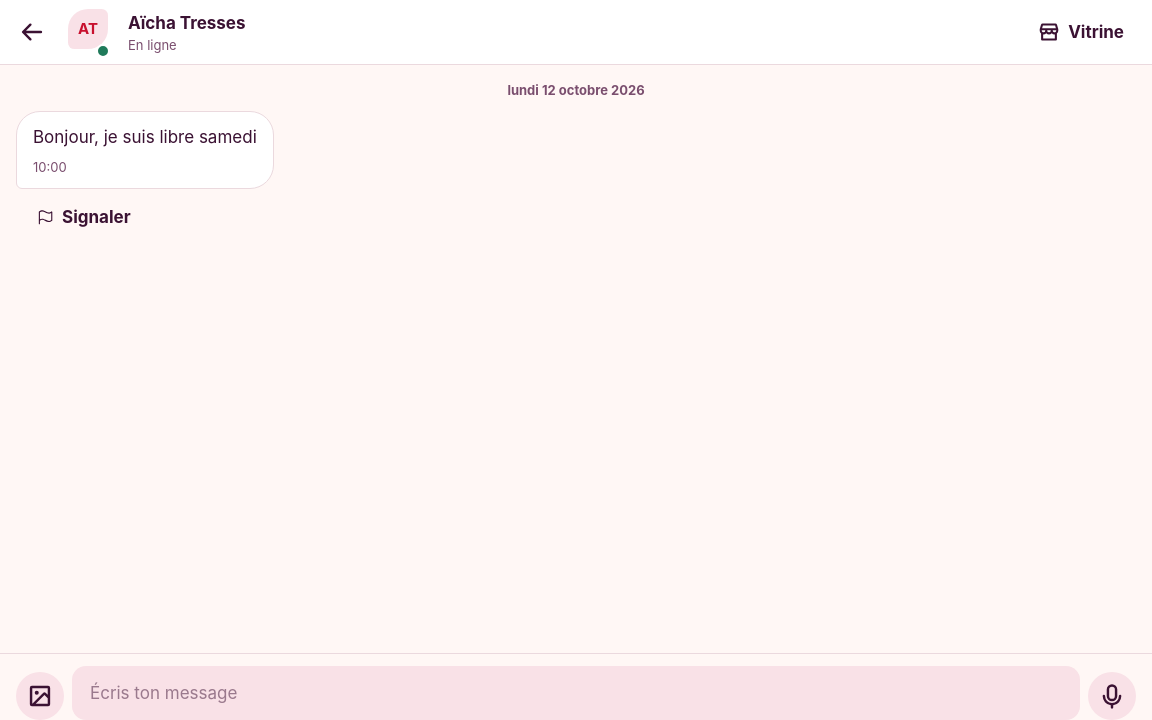
it: Thread › shows the conversation, sends a message and marks it read
expect the heading "Aïcha Tresses" is shown: met, box [128, 13, 246, 33]
expect the text "En ligne" is shown: met, box [128, 37, 177, 53]
Step 1. Type "Super, à samedi !" into the text box labelled "ton message" → (576, 693), box [72, 666, 1080, 719]
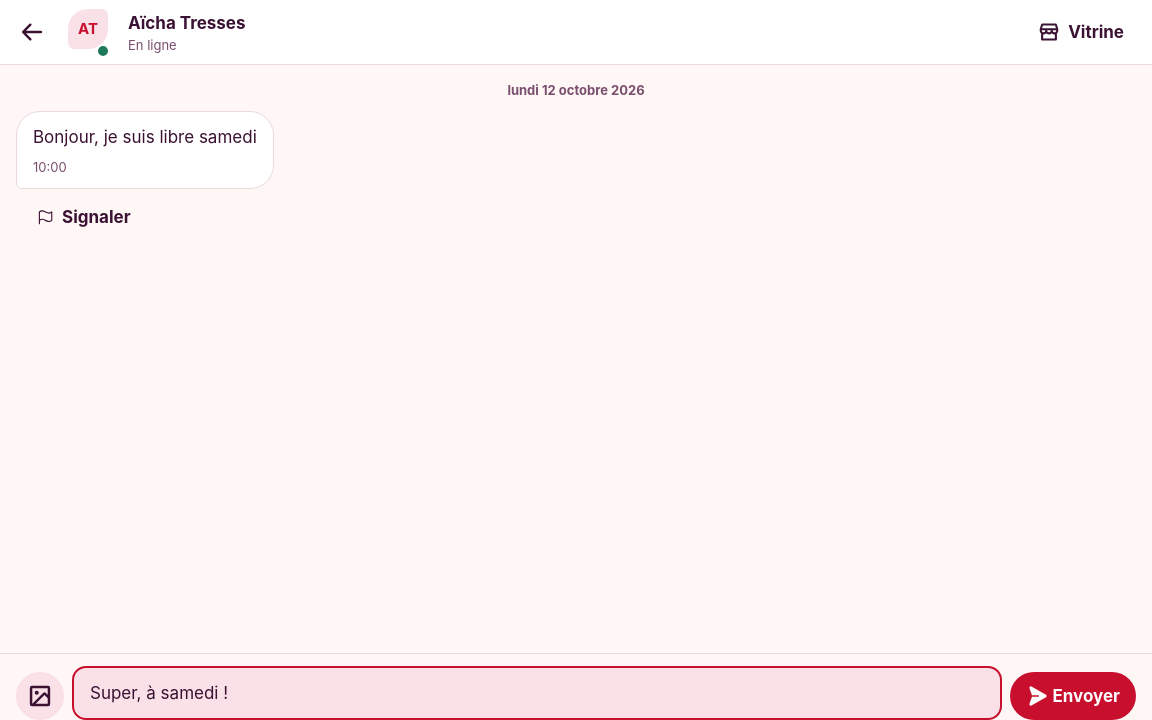
Step 2. Click the button "Envoyer" → click(1073, 696), box [1010, 672, 1136, 719]
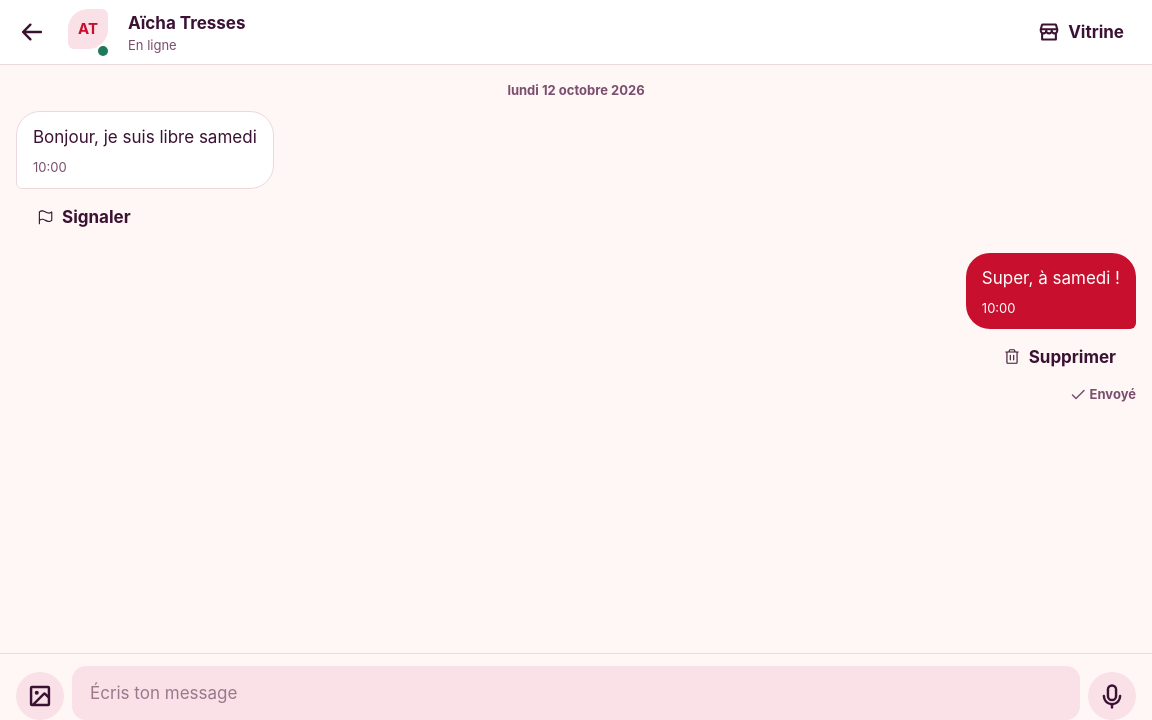
expect the text "Super, à samedi !" is shown: met, box [982, 265, 1120, 291]
expect the text "Envoyé" is shown: met, box [1070, 385, 1136, 403]
